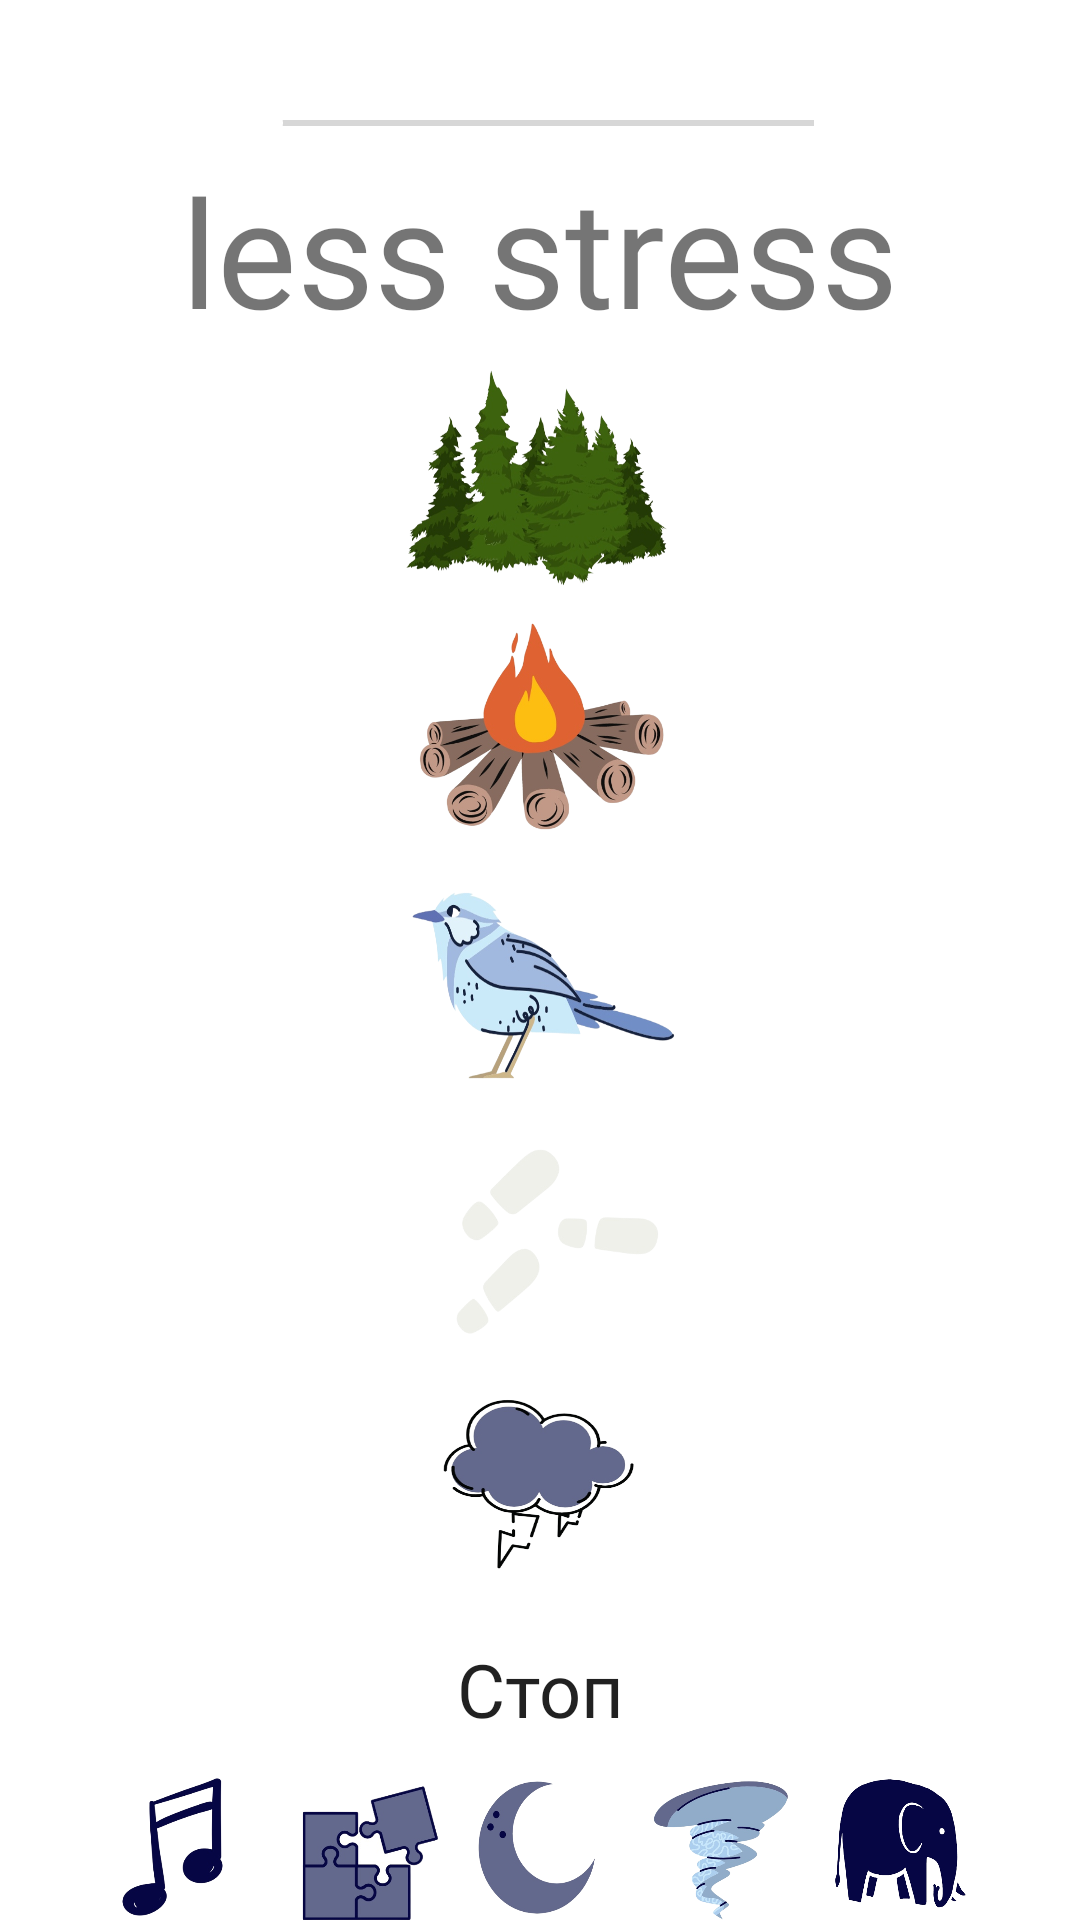

Where to tap for icons on this 1080x1920 app screen, as [x,y]:
bird: [543,985]
bonfire: [542,726]
forest: [536,478]
thunder: [538,1484]
